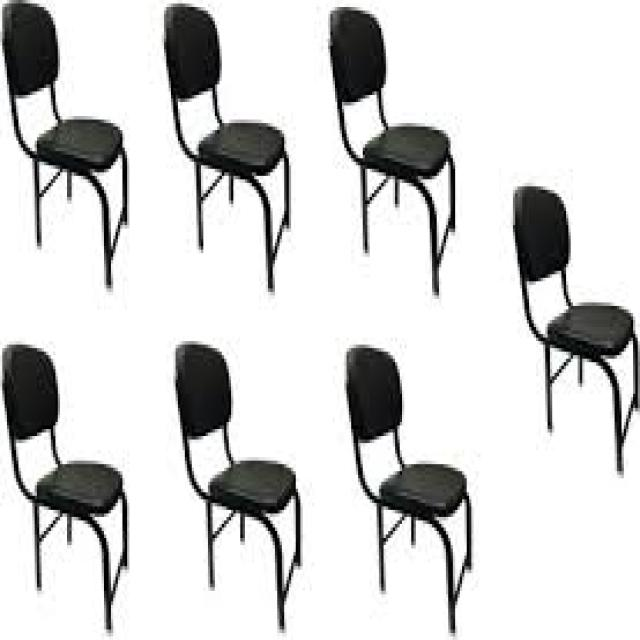chair: (141, 314, 329, 639), (324, 320, 514, 640), (299, 0, 481, 322), (485, 154, 640, 492), (0, 303, 154, 640), (148, 0, 297, 307), (2, 0, 148, 299)
